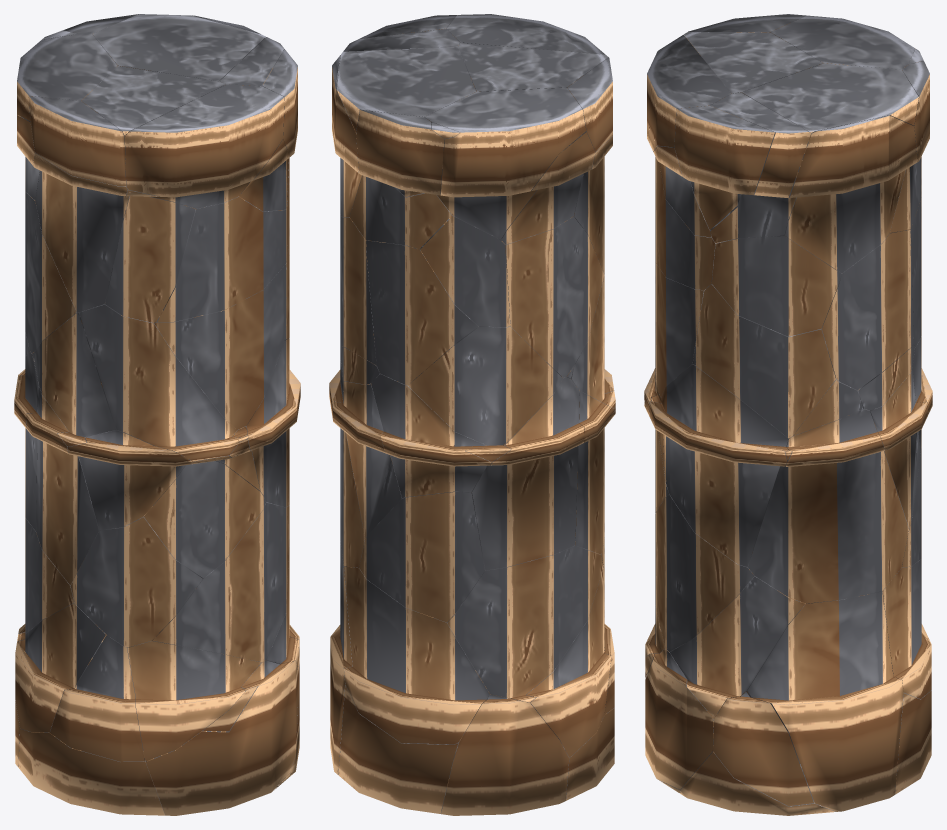
The model's file is Columna_v2.gltf.
The picture shows the model from 3 angles, left to right: view 1: azimuth 30°, elevation 25°; view 2: azimuth 150°, elevation 25°; view 3: azimuth 270°, elevation 25°; orthographic projection.
Visible parts, largest first — view 1: Cylinder.070_cell.013, Cylinder.070_cell.037, Cylinder.070_cell.059, Cylinder.070_cell.042, Cylinder.070_cell.052, Cylinder.070_cell.035, Cylinder.070_cell.005, Cylinder.070_cell.069, Cylinder.070_cell.058, Cylinder.070_cell.020, Cylinder.070_cell.016, Cylinder.070_cell.017 (+21 smaller); view 2: Cylinder.070_cell.018, Cylinder.070_cell.034, Cylinder.070_cell.038, Cylinder.070_cell.015, Cylinder.070_cell.019, Cylinder.070_cell.022, Cylinder.070_cell.067, Cylinder.070_cell.002, Cylinder.070_cell.031, Cylinder.070_cell.028, Cylinder.070_cell.017, Cylinder.070_cell.029 (+21 smaller); view 3: Cylinder.070_cell.027, Cylinder.070_cell.023, Cylinder.070_cell.049, Cylinder.070_cell.036, Cylinder.070_cell.021, Cylinder.070_cell.050, Cylinder.070_cell.054, Cylinder.070_cell.071, Cylinder.070_cell.042, Cylinder.070_cell.017, Cylinder.070_cell.014, Cylinder.070_cell.043 (+21 smaller).
Boxes of the visible parts, left/top/right/bottom form: Cylinder.070_cell.013: left=124, top=84, right=284, bottom=208; Cylinder.070_cell.037: left=32, top=304, right=239, bottom=461; Cylinder.070_cell.059: left=145, top=660, right=297, bottom=815; Cylinder.070_cell.042: left=151, top=502, right=289, bottom=662; Cylinder.070_cell.052: left=154, top=258, right=286, bottom=429; Cylinder.070_cell.035: left=70, top=516, right=203, bottom=647; Cylinder.070_cell.005: left=157, top=196, right=287, bottom=321; Cylinder.070_cell.069: left=127, top=641, right=260, bottom=761; Cylinder.070_cell.058: left=33, top=153, right=129, bottom=312; Cylinder.070_cell.020: left=144, top=461, right=265, bottom=578; Cylinder.070_cell.016: left=105, top=190, right=195, bottom=322; Cylinder.070_cell.017: left=92, top=14, right=265, bottom=81; Cylinder.070_cell.018: left=344, top=566, right=490, bottom=744; Cylinder.070_cell.034: left=424, top=87, right=586, bottom=239; Cylinder.070_cell.038: left=447, top=545, right=603, bottom=702; Cylinder.070_cell.015: left=471, top=377, right=584, bottom=570; Cylinder.070_cell.019: left=408, top=326, right=562, bottom=461; Cylinder.070_cell.022: left=359, top=492, right=484, bottom=622; Cylinder.070_cell.067: left=441, top=694, right=569, bottom=815; Cylinder.070_cell.002: left=505, top=216, right=604, bottom=377; Cylinder.070_cell.031: left=366, top=240, right=478, bottom=385; Cylinder.070_cell.028: left=371, top=373, right=491, bottom=498; Cylinder.070_cell.017: left=337, top=47, right=476, bottom=132; Cylinder.070_cell.029: left=338, top=685, right=459, bottom=813; Cylinder.070_cell.027: left=747, top=591, right=903, bottom=811; Cylinder.070_cell.023: left=747, top=409, right=908, bottom=603; Cylinder.070_cell.049: left=649, top=364, right=788, bottom=566; Cylinder.070_cell.036: left=785, top=115, right=917, bottom=273; Cylinder.070_cell.021: left=692, top=284, right=835, bottom=438; Cylinder.070_cell.050: left=821, top=230, right=913, bottom=390; Cylinder.070_cell.054: left=712, top=236, right=841, bottom=336; Cylinder.070_cell.071: left=669, top=576, right=805, bottom=718; Cylinder.070_cell.042: left=655, top=495, right=754, bottom=651; Cylinder.070_cell.017: left=742, top=63, right=918, bottom=133; Cylinder.070_cell.014: left=674, top=106, right=774, bottom=229; Cylinder.070_cell.043: left=713, top=692, right=813, bottom=806.
Size of the model in its own units: 1.7 by 4.43 by 1.7.
Materials: 1 (1 with a texture image).
